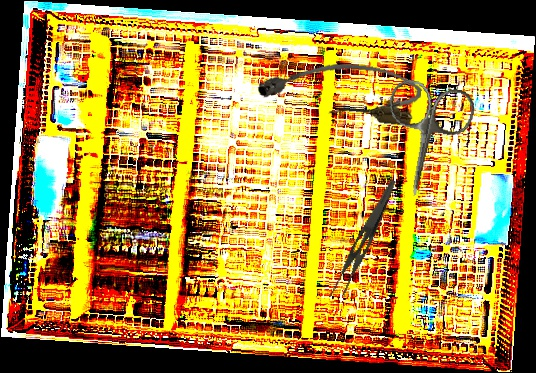Cannula: (254, 49, 425, 129)
Dressing Forceps: (327, 173, 397, 305)
Iris Scissors: (371, 76, 479, 205)
